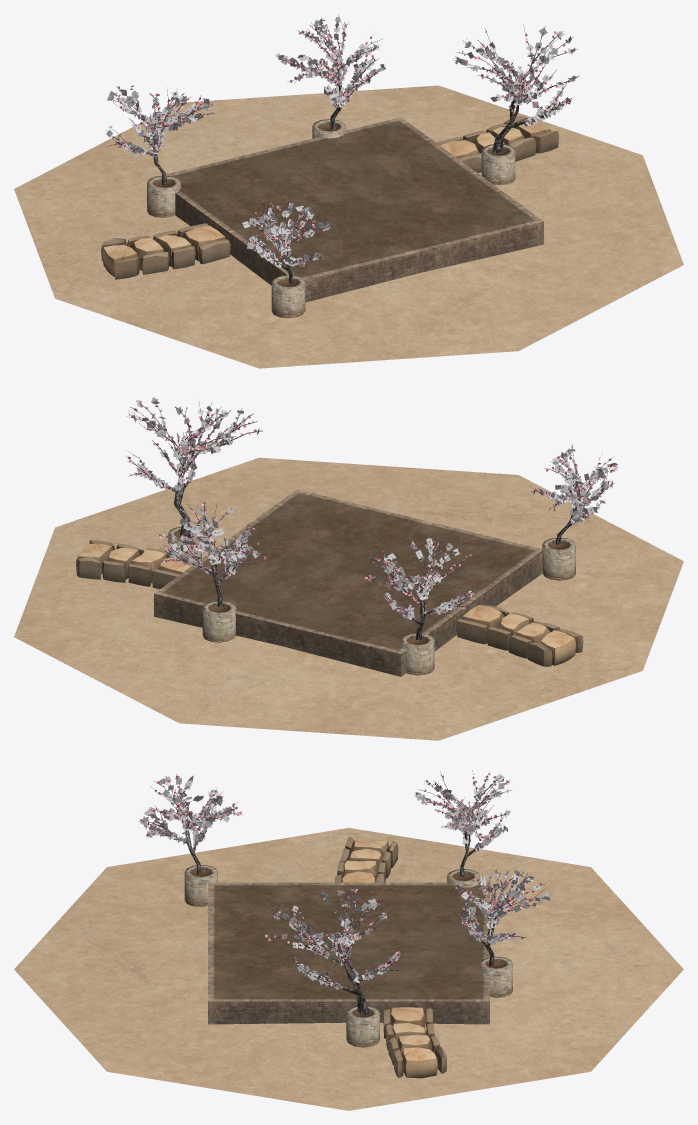
File: env3.fbx
3 renders of one model, top to bottom at view 1: azimuth 30°, elevation 25°; view 2: azimuth 150°, elevation 25°; view 3: azimuth 270°, elevation 25°, orthographic.
Parts seen in each view (by area): view 1: Plane.008, Cube.001, Cube.007, Cube.008, Cube.005, Cylinder.005, Cylinder.002, Cylinder.004, Cube.004, Cube.002, Cylinder.003; view 2: Plane.008, Cube.001, Cube.007, Cube.008, Cube.005, Cylinder.005, Cylinder.003, Cylinder.004, Cube.004, Cube.002, Cube.006; view 3: Plane.008, Cube.001, Cube.008, Cube.007, Cube.005, Cylinder.002, Cylinder.005, Cylinder.003, Cube.004, Cube.002, Cube.006.
Boxes of the visible parts, <box> form: Plane.008: <box>14,85,683,368</box>; Cube.001: <box>161,117,543,302</box>; Cube.007: <box>101,223,230,279</box>; Cube.008: <box>436,115,558,172</box>; Cube.005: <box>453,24,577,153</box>; Cylinder.005: <box>271,275,305,318</box>; Cylinder.002: <box>481,144,515,185</box>; Cylinder.004: <box>147,176,180,217</box>; Cube.004: <box>280,15,385,129</box>; Cube.002: <box>106,86,215,185</box>; Cylinder.003: <box>312,119,346,138</box>; Plane.008: <box>14,457,683,740</box>; Cube.001: <box>154,489,542,676</box>; Cube.007: <box>456,604,583,666</box>; Cube.008: <box>76,540,197,589</box>; Cube.005: <box>126,400,262,536</box>; Cylinder.005: <box>542,538,575,580</box>; Cylinder.003: <box>202,601,236,642</box>; Cylinder.004: <box>400,633,434,675</box>; Cube.004: <box>159,502,267,606</box>; Cube.002: <box>363,538,474,640</box>; Cube.006: <box>531,451,616,544</box>; Plane.008: <box>14,828,683,1110</box>; Cube.001: <box>208,882,489,1024</box>; Cube.008: <box>383,1007,446,1078</box>; Cube.007: <box>335,837,398,882</box>; Cube.005: <box>263,885,403,1015</box>; Cylinder.002: <box>346,1006,379,1047</box>; Cylinder.005: <box>184,865,217,906</box>; Cylinder.003: <box>479,956,512,997</box>; Cube.004: <box>456,870,551,966</box>; Cube.002: <box>414,770,511,876</box>; Cube.006: <box>139,774,242,874</box>.
Bounding box in the file's own units: 8236 × 2057 × 8236.
